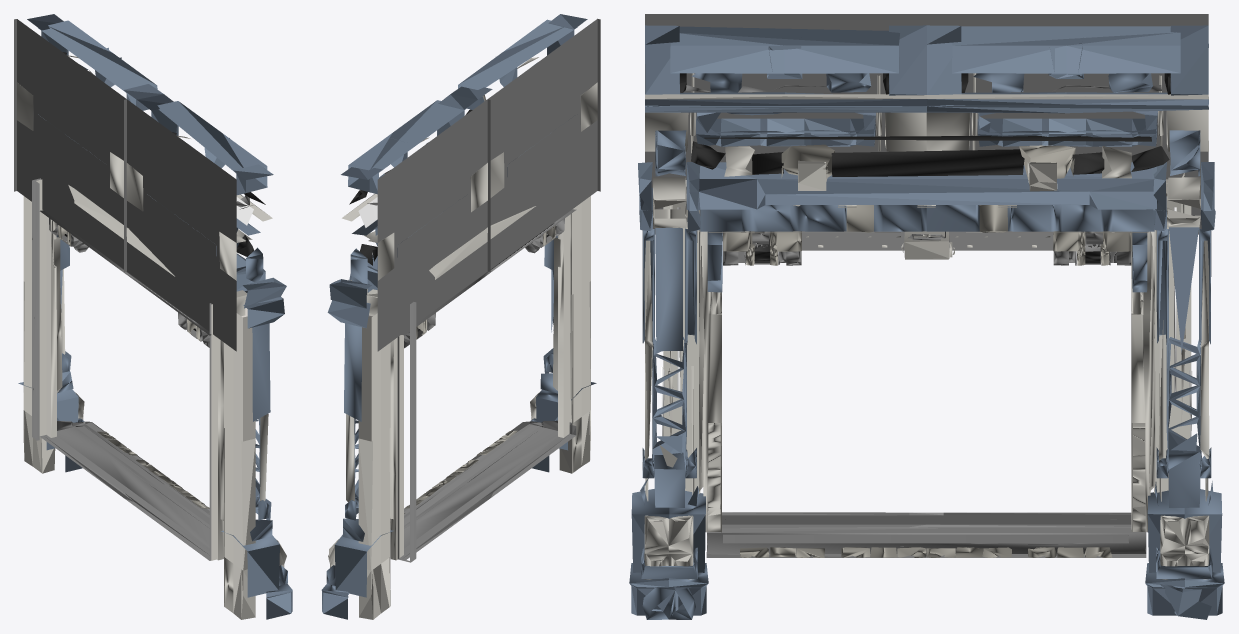
The model's file is doorframe_dumpersd_16x16_01.glb.
3 renders of one model, left to right at view 1: azimuth 30°, elevation 25°; view 2: azimuth 150°, elevation 25°; view 3: azimuth 270°, elevation 25°, orthographic. The views are drawn at different scales.
Size of the model in its own units: 2.74 by 17.85 by 16.9.
